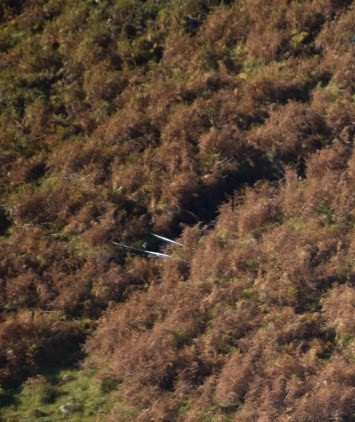tube: (110, 235, 186, 264), (146, 228, 186, 248)
